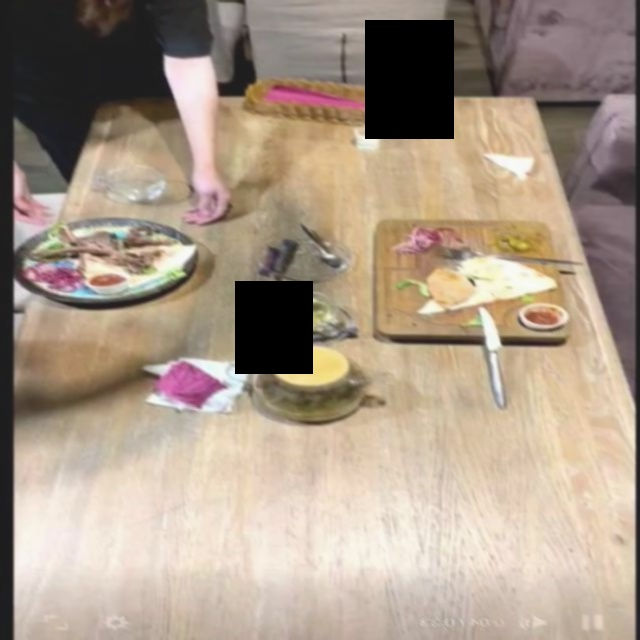meat: (370, 218, 571, 343), (0, 220, 223, 317)
tea: (217, 337, 396, 427)
